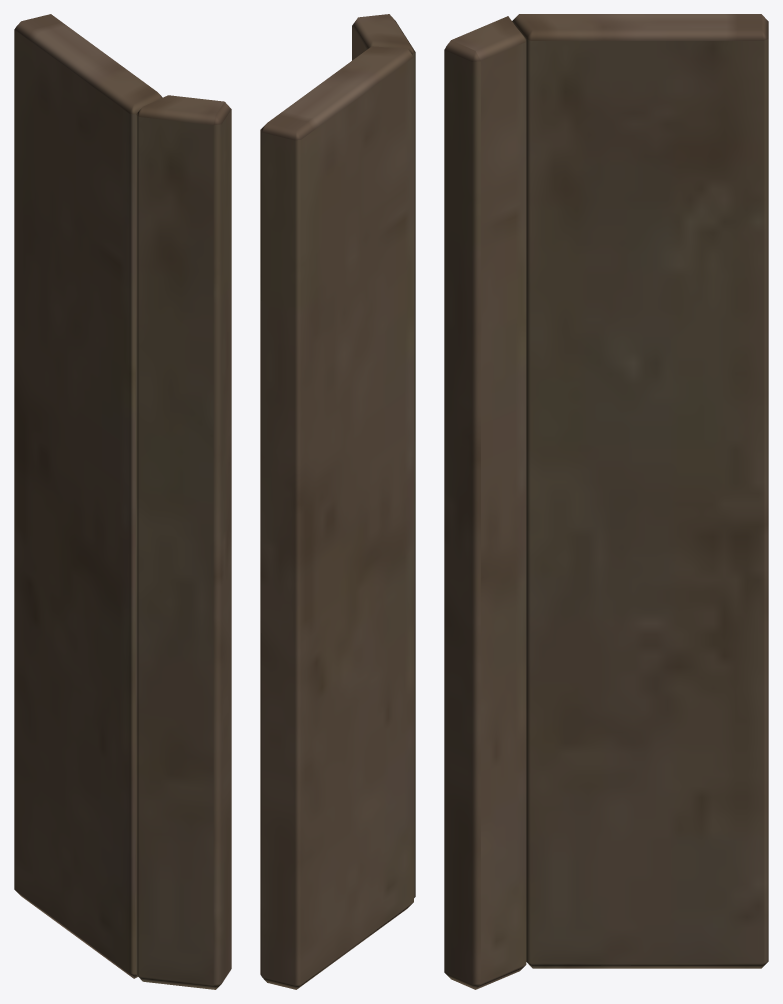
The model's file is wall.low.frontier.corner.r.glb.
The picture shows the model from 3 angles, left to right: view 1: azimuth 30°, elevation 25°; view 2: azimuth 150°, elevation 25°; view 3: azimuth 270°, elevation 25°; orthographic projection. The views are drawn at different scales.
Parts seen in each view (by area): view 1: model; view 2: model; view 3: model.
Part boxes in pixels (x1,y1,x2,y2): model: (14, 14, 231, 989); model: (260, 14, 415, 989); model: (444, 14, 768, 989).
Size of the model in its own units: 0.0984 by 1.01 by 0.3158.
1 material, 1 textured.
